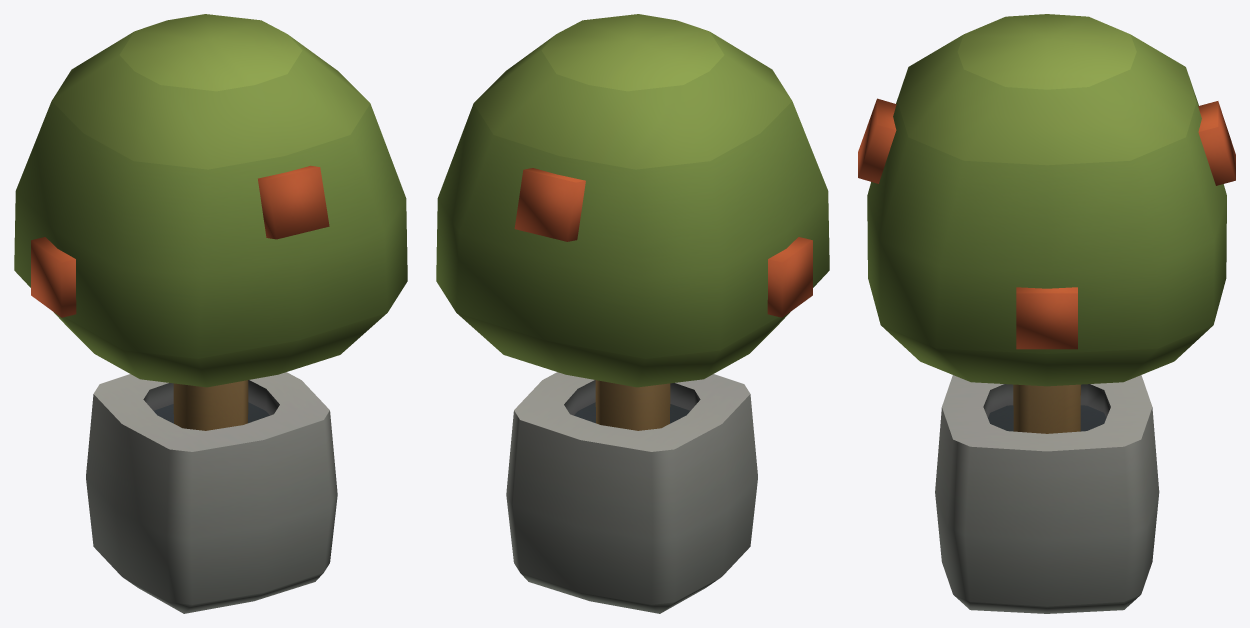
The model's file is bush_plant_big_stem_pot.fbx.
The picture shows the model from 3 angles, left to right: view 1: azimuth 30°, elevation 25°; view 2: azimuth 150°, elevation 25°; view 3: azimuth 270°, elevation 25°; orthographic projection.
Visible parts, largest first — view 1: bush_plant_big_stem_pot; view 2: bush_plant_big_stem_pot; view 3: bush_plant_big_stem_pot.
Part boxes in pixels (x1,y1,x2,y2): bush_plant_big_stem_pot: (14, 14, 407, 613); bush_plant_big_stem_pot: (436, 14, 829, 613); bush_plant_big_stem_pot: (858, 14, 1235, 613).
Bounding box in the file's own units: 102 × 158 × 100.
